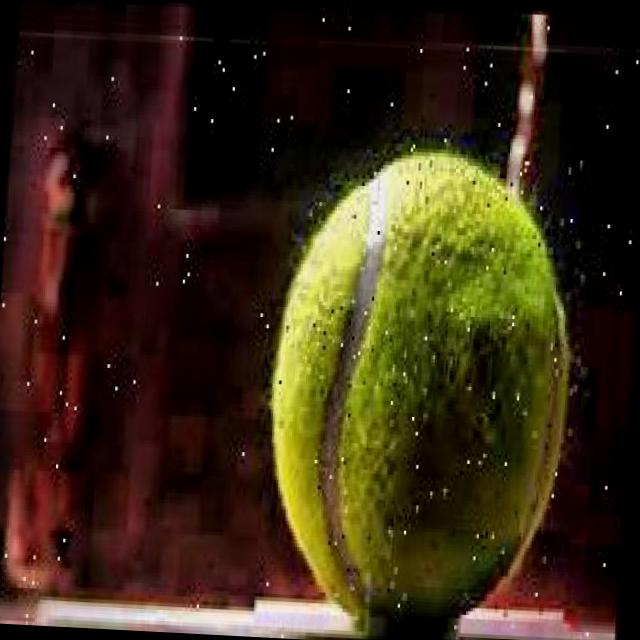Tennis Ball: (253, 141, 594, 640)
